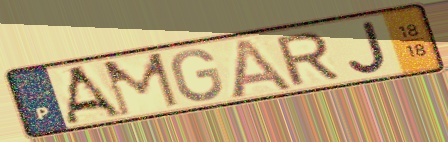A: (227, 36, 297, 102), (63, 63, 126, 126)
G: (169, 48, 227, 103)
J: (346, 19, 391, 75)
M: (99, 50, 183, 119)
R: (272, 29, 343, 88)
